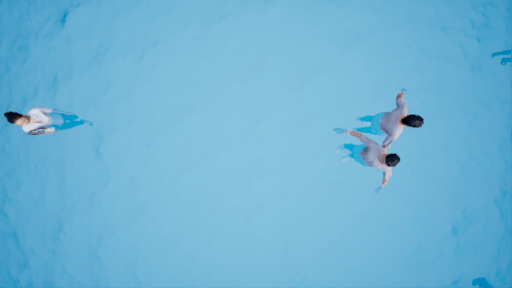person: (319, 133, 409, 191), (351, 87, 432, 145), (3, 96, 100, 141)
